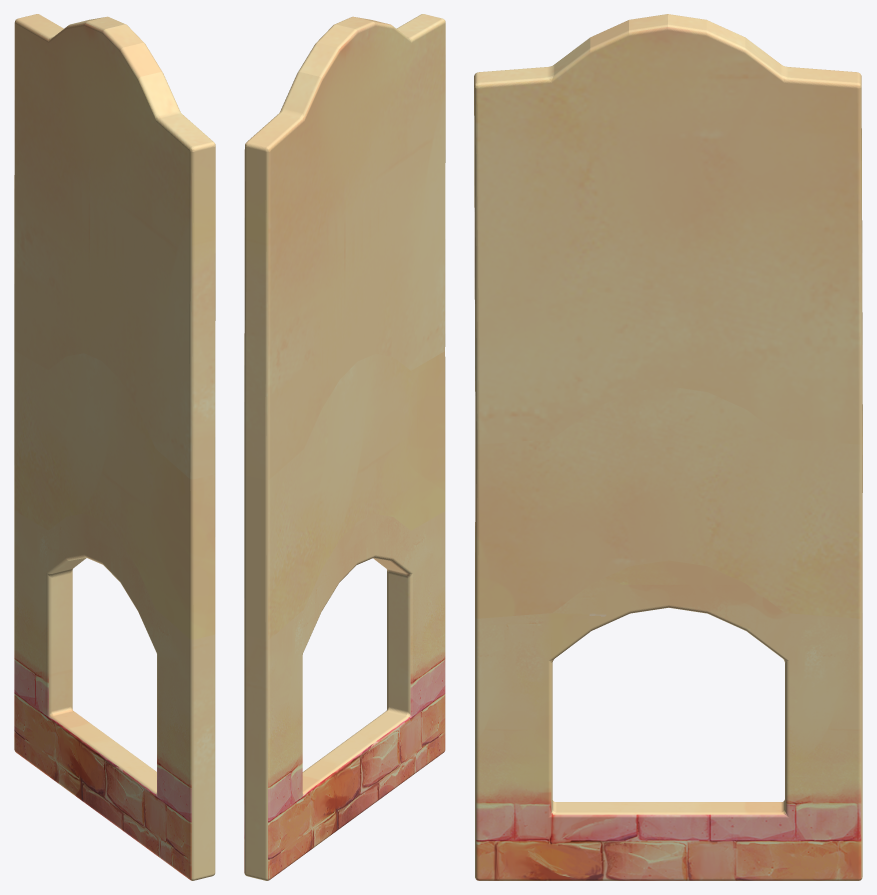
Rendered from ParedeVentana.fbx.
3 views of the same model, side by side, from view 1: azimuth 30°, elevation 25°; view 2: azimuth 150°, elevation 25°; view 3: azimuth 270°, elevation 25° (orthographic). The views are drawn at different scales.
Visible parts, largest first — view 1: Pared_lateral; view 2: Pared_lateral; view 3: Pared_lateral.
Boxes of the visible parts, left/top/right/bottom form: Pared_lateral: left=14, top=14, right=215, bottom=880; Pared_lateral: left=244, top=14, right=445, bottom=880; Pared_lateral: left=474, top=14, right=862, bottom=880.
Size of the model in its own units: 99.17 by 2925 by 1204.
